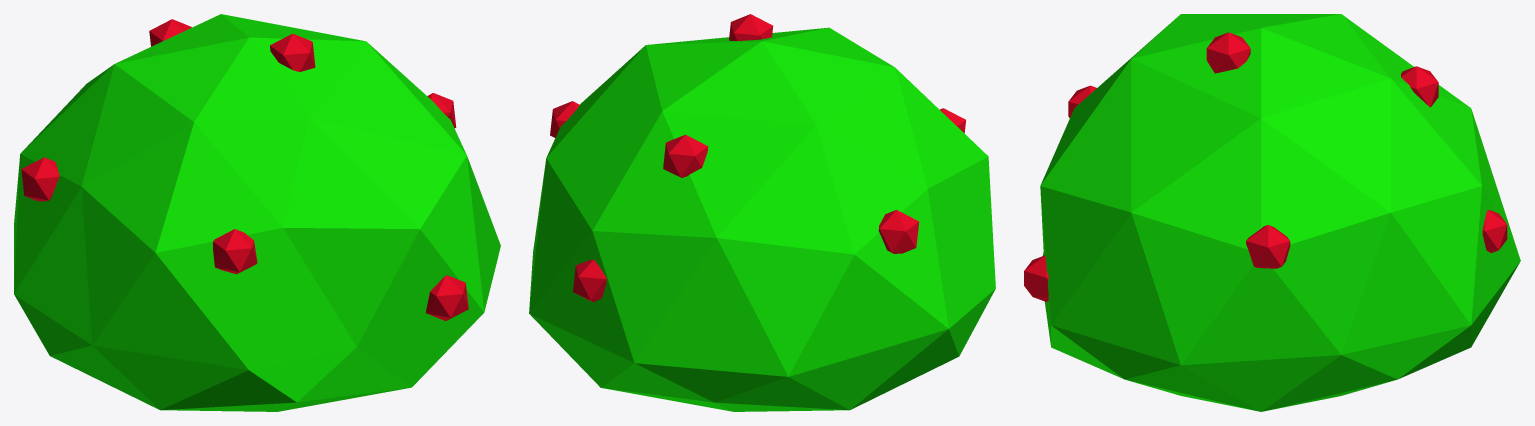
The model's file is berrybush-full.glb.
The picture shows the model from 3 angles, left to right: view 1: azimuth 30°, elevation 25°; view 2: azimuth 150°, elevation 25°; view 3: azimuth 270°, elevation 25°; orthographic projection.
Visible parts, largest first — view 1: Icosphere; view 2: Icosphere; view 3: Icosphere.
Part boxes in pixels (bbox=[...]): Icosphere: bbox=[14, 14, 500, 411]; Icosphere: bbox=[529, 14, 995, 411]; Icosphere: bbox=[1024, 14, 1520, 411].
Size of the model in its own units: 1.9 by 1.45 by 1.91.
